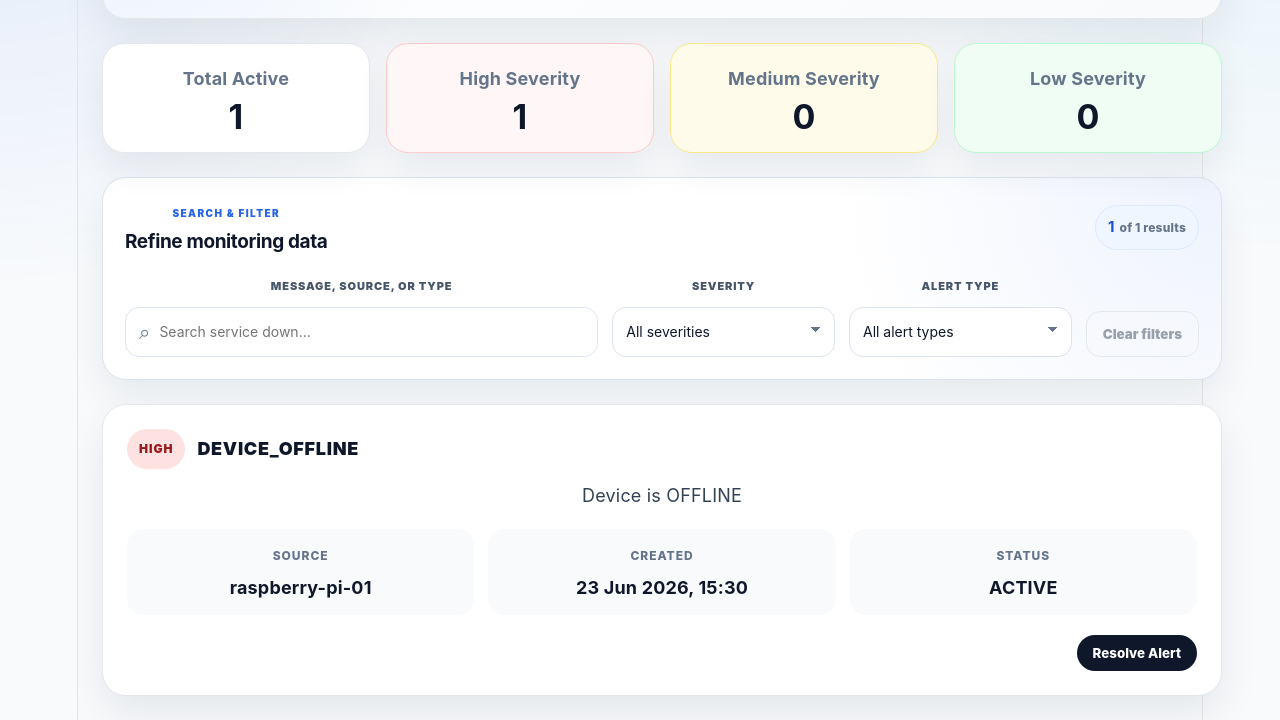
AlertsPage › resolves an active alert
(page scrolled)
Expected: the text "DEVICE_OFFLINE" is shown, [197,436,359,462]
Click the button "Resolve Alert" at (1137, 653), box [1077,635,1197,671]
(page scrolled)
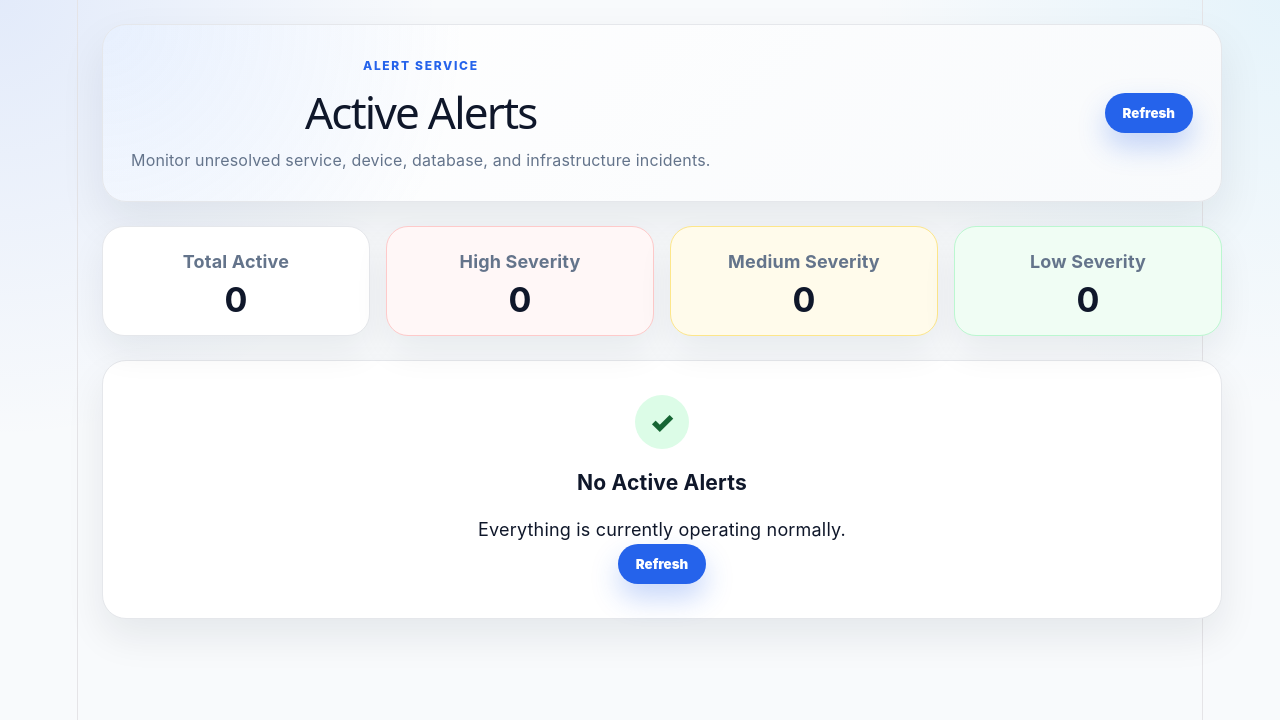
Expected: the heading "No Active Alerts" is shown, [577,470,747,495]
